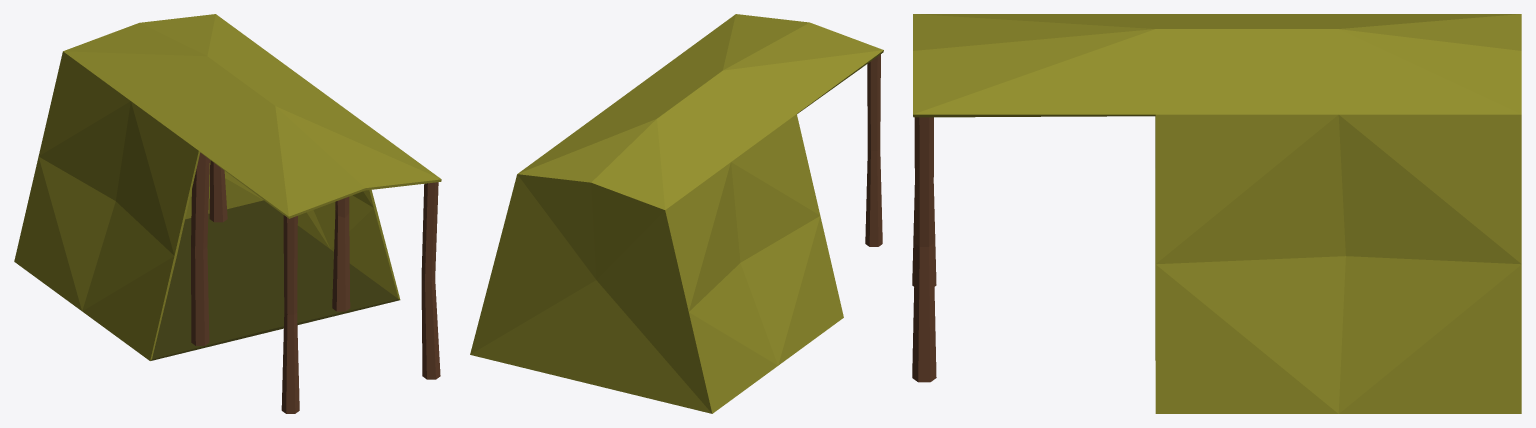
File: Tent_4_Yellow.fbx
The picture shows the model from 3 angles, left to right: view 1: azimuth 30°, elevation 25°; view 2: azimuth 150°, elevation 25°; view 3: azimuth 270°, elevation 25°; orthographic projection. The views are drawn at different scales.
Visible parts, largest first — view 1: Tent_4_Yellow_Part_2, Tent_4_Yellow_Part_3, Tent_4_Yellow_Part_1, Tent_4_Yellow_Part_4, Tent_4_Yellow_Part_8, Tent_4_Yellow_Part_6, Tent_4_Yellow_Part_7, Tent_4_Yellow_Part_9, Tent_4_Yellow_Part_11, Tent_4_Yellow_Part_5; view 2: Tent_4_Yellow_Part_5, Tent_4_Yellow_Part_2, Tent_4_Yellow_Part_3, Tent_4_Yellow_Part_7; view 3: Tent_4_Yellow_Part_4, Tent_4_Yellow_Part_2, Tent_4_Yellow_Part_6.
Part boxes in pixels (x1,y1,x2,y2): Tent_4_Yellow_Part_2: [63, 14, 441, 218]; Tent_4_Yellow_Part_3: [14, 51, 200, 360]; Tent_4_Yellow_Part_1: [151, 200, 399, 360]; Tent_4_Yellow_Part_4: [264, 190, 400, 299]; Tent_4_Yellow_Part_8: [191, 152, 209, 345]; Tent_4_Yellow_Part_6: [421, 182, 440, 379]; Tent_4_Yellow_Part_7: [281, 215, 299, 413]; Tent_4_Yellow_Part_9: [332, 196, 350, 311]; Tent_4_Yellow_Part_11: [209, 160, 227, 222]; Tent_4_Yellow_Part_5: [185, 160, 263, 219]; Tent_4_Yellow_Part_5: [470, 174, 712, 413]; Tent_4_Yellow_Part_2: [517, 14, 883, 209]; Tent_4_Yellow_Part_3: [665, 114, 843, 413]; Tent_4_Yellow_Part_7: [865, 54, 882, 246]; Tent_4_Yellow_Part_4: [1155, 114, 1521, 413]; Tent_4_Yellow_Part_2: [913, 14, 1521, 117]; Tent_4_Yellow_Part_6: [912, 117, 936, 382].
Size of the model in its own units: 320 by 274 by 501.
